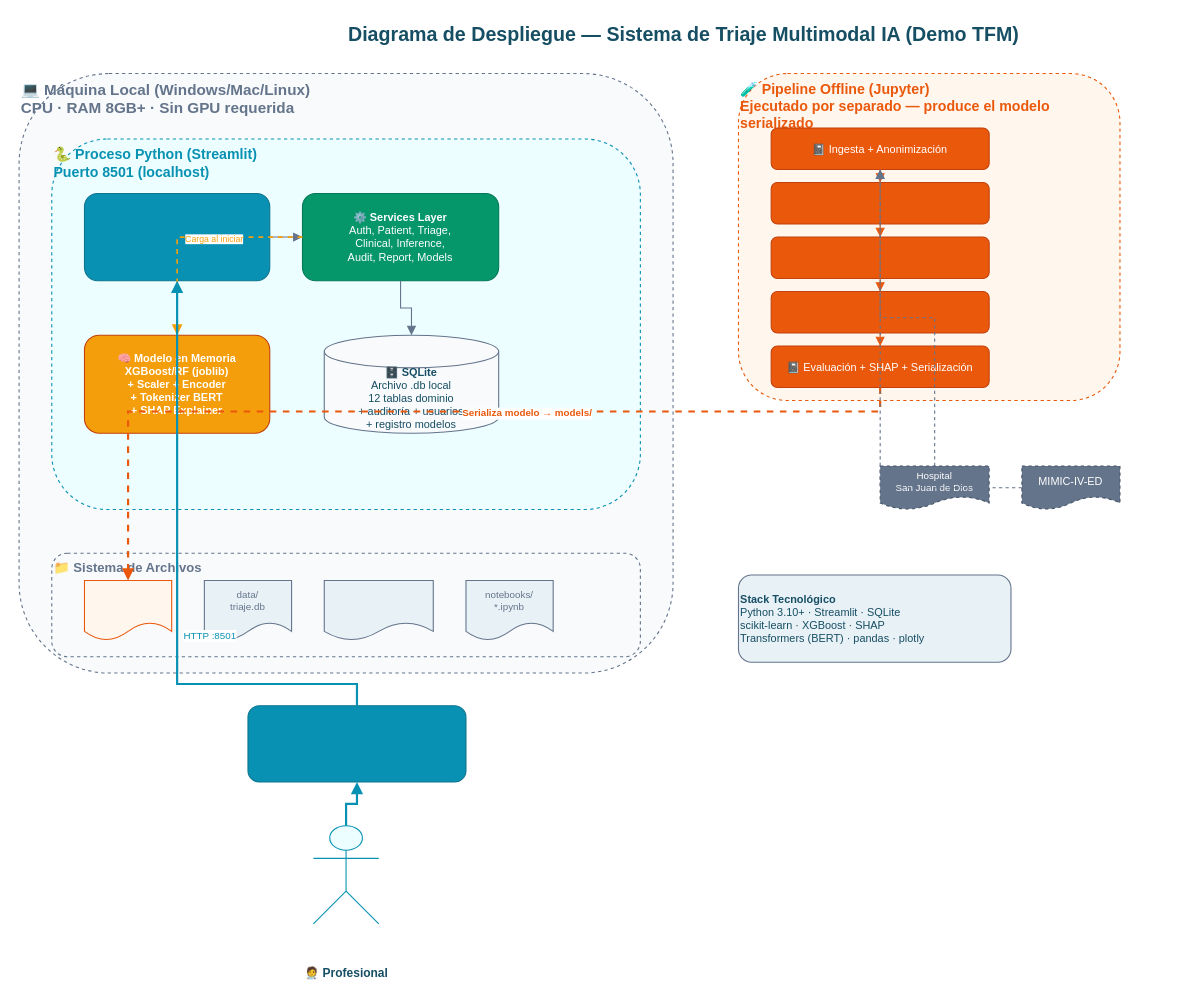
Image size: 1194x998. Some labels were removed from this diagram. The shapes that lost their labels are listed below. From the top down, each one's centre as x and y in pixels, then its label:
At point (879, 202): "📓 Limpieza + Normalización".
At point (176, 236): "📱 Streamlit UI 12 pantallas Renderizado HTML/CSS + gráficos plotly".
At point (879, 257): "📓 Embeddings BERT".
At point (879, 311): "📓 Baselines + Early/Late Fusion".
At point (127, 609): "models/ *.joblib *.json".
At point (378, 609): "datasets/ *.csv (4 archivos)".
At point (356, 743): "🌐 Navegador Web Chrome / Firefox / Edge http://localhost:8501".
